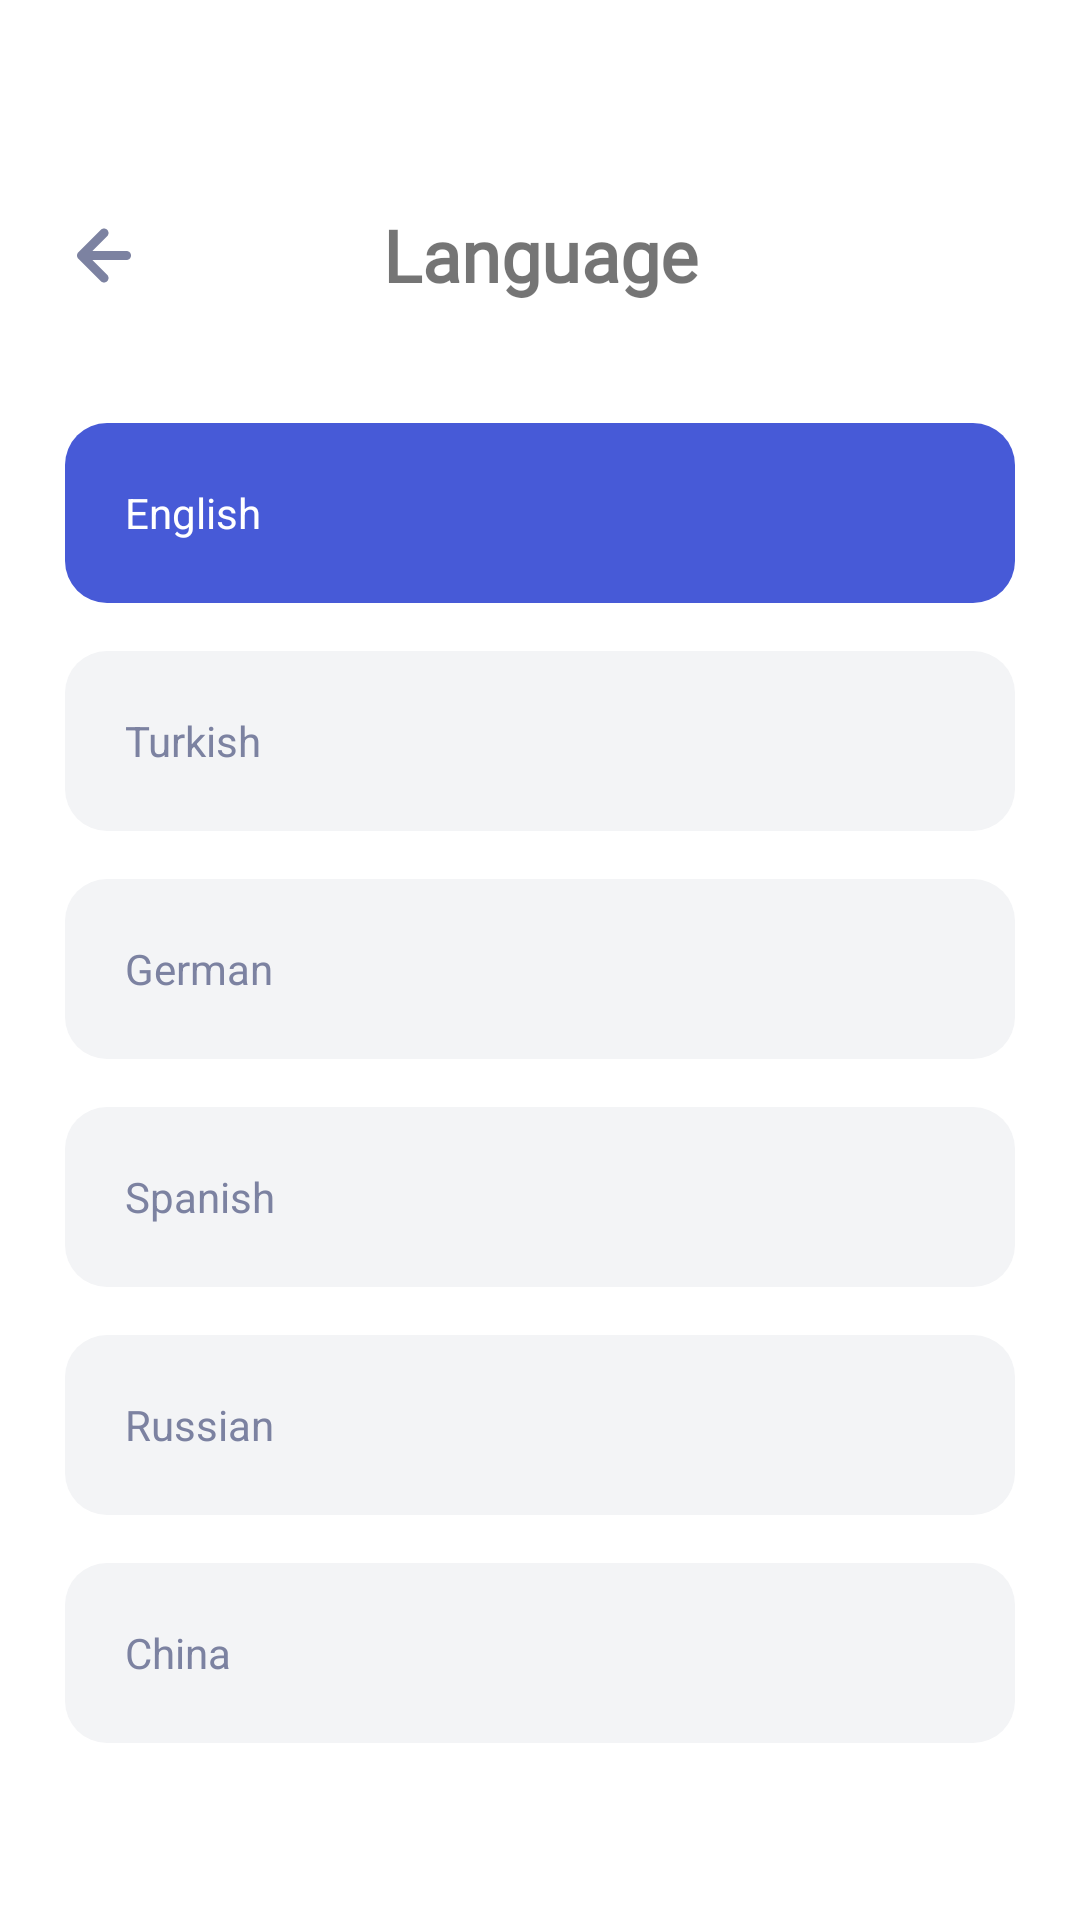

Icons on this 1080 × 1920 Android screen, each with its box as [x1=x1, y1=y1, x2=x2, y2=y2]:
back: [x1=77, y1=228, x2=131, y2=283]
